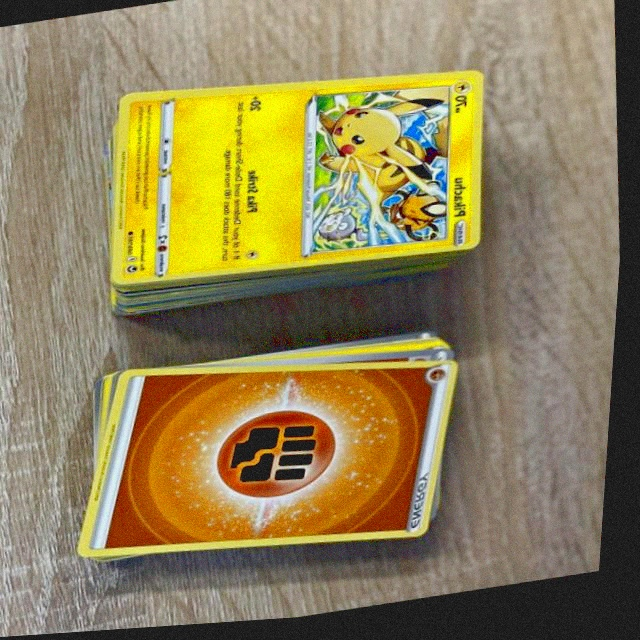card: (113, 75, 485, 287), (82, 365, 463, 558)
